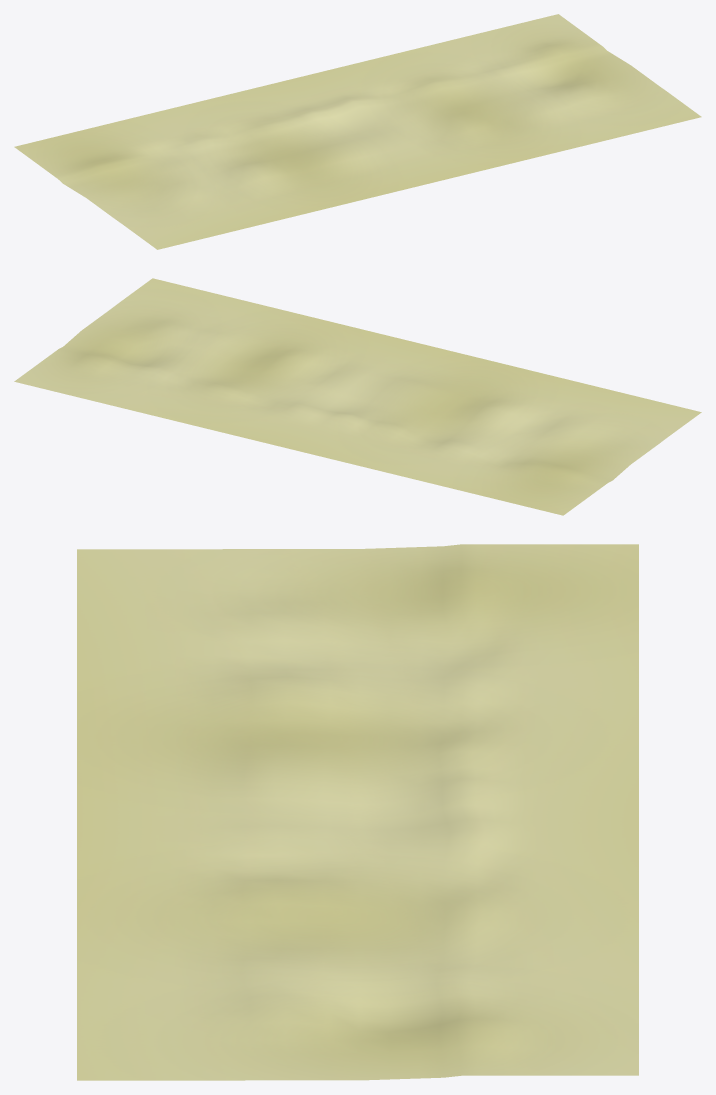
File: floor.fbx
The picture shows the model from 3 angles, top to bottom: view 1: azimuth 30°, elevation 25°; view 2: azimuth 150°, elevation 25°; view 3: azimuth 270°, elevation 25°; orthographic projection. The views are drawn at different scales.
Visible parts, largest first — view 1: Plane; view 2: Plane; view 3: Plane.
Boxes of the visible parts, bbox=[...] form: Plane: bbox=[14, 14, 701, 249]; Plane: bbox=[14, 278, 701, 515]; Plane: bbox=[77, 544, 638, 1080].
Size of the model in its own units: 2011 by 34.13 by 894.
1 material, 1 textured.
